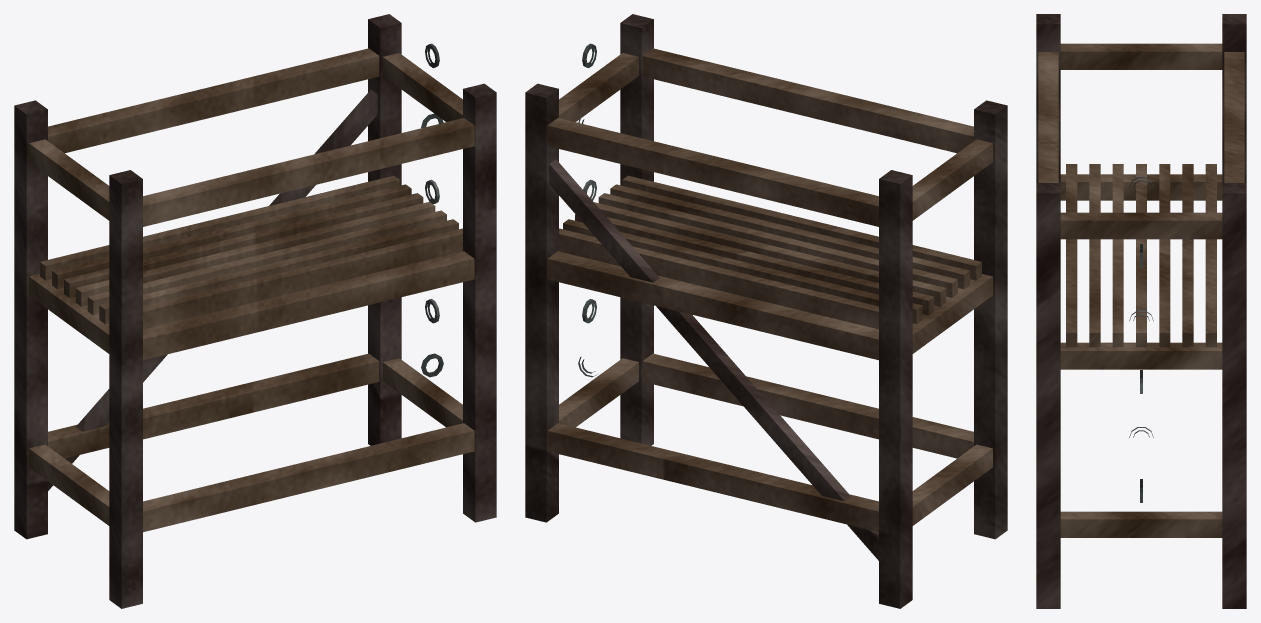
File: 0447_scaffolding_22.glb
3 views of the same model, side by side, from view 1: azimuth 30°, elevation 25°; view 2: azimuth 150°, elevation 25°; view 3: azimuth 270°, elevation 25° (orthographic). The views are drawn at different scales.
Visible parts, largest first — view 1: wood, wood_dark, iron; view 2: wood, wood_dark, iron; view 3: wood, wood_dark, iron.
Boxes of the visible parts, box(x1,y1,x2,y2) form: wood: box(29, 48, 474, 532); wood_dark: box(14, 14, 496, 608); iron: box(421, 43, 443, 377); wood: box(547, 48, 992, 532); wood_dark: box(525, 14, 1007, 608); iron: box(578, 43, 597, 377); wood: box(1038, 43, 1244, 537); wood_dark: box(1036, 14, 1246, 608); iron: box(1129, 177, 1153, 502).
Bounding box in the file's own units: 2.28 × 2.53 × 1.13.
3 materials, 3 textured.
